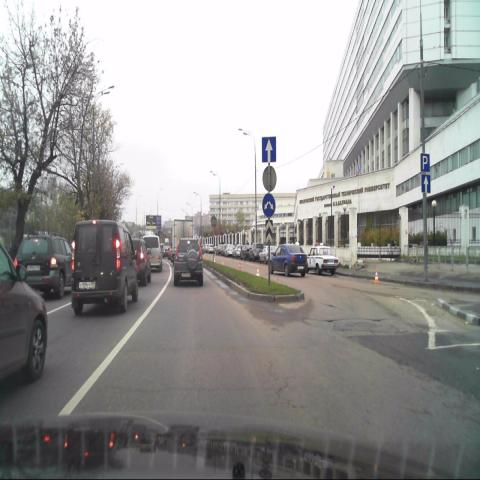4_2_3: (262, 193, 275, 217)
